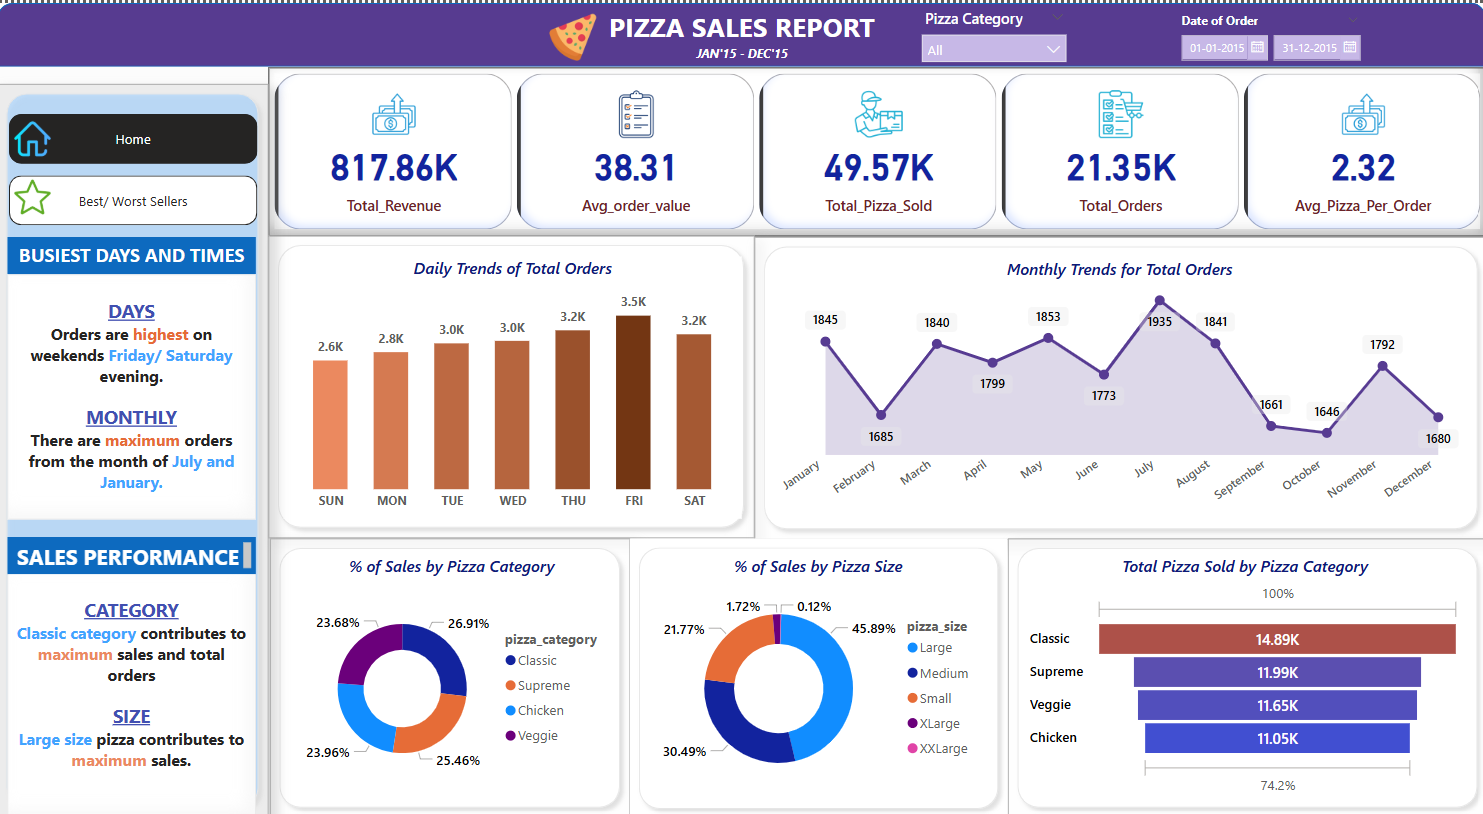

The page's visual inventory and layout, read from the dashboard file:
{"tool":"powerbi","page":{"name":"Home","canvas":[1500,820],"ordinal":0},"visuals":[{"type":"cardVisual","fields":{"Data":["pizza_sales.Total_Revenue","pizza_sales.Avg_order_value","pizza_sales.Total_Pizza_Sold","pizza_sales.Total_Orders","pizza_sales.Avg_Pizza_Per_Order"]},"box":[273.2,64.6,1227.5,169.8],"z":0},{"type":"shape","box":[0,0,1500.4,64.1],"z":1000},{"type":"textbox","box":[0,0,1500,65],"z":2000},{"type":"image","box":[550.2,4.7,59.4,59.4],"z":3000},{"type":"shape","box":[273.2,234.4,489.1,304.6],"z":4000},{"type":"columnChart","title":"Daily Trends of Total Orders","fields":{"Category":["pizza_sales.Order Day"],"Y":["pizza_sales.Total_Orders"]},"box":[287.9,254.7,461.4,263.9],"z":5000},{"type":"shape","box":[762.3,236.3,738.3,304.6],"z":6000},{"type":"areaChart","title":"Monthly Trends for Total Orders","fields":{"Category":["pizza_sales.order_date.Variation.Date Hierarchy.Month"],"Y":["pizza_sales.Total_Orders"]},"box":[782.6,256.6,695.9,263.9],"z":7000},{"type":"shape","box":[275.1,539.2,362.6,281.3],"z":8000},{"type":"shape","box":[1017.5,539.2,482.9,281.3],"z":9000},{"type":"shape","box":[637.7,539.2,379.8,281.3],"z":10000},{"type":"donutChart","title":"% of Sales by Pizza Category","fields":{"Category":["pizza_sales.pizza_category"],"Y":["pizza_sales.Total_Revenue"]},"box":[298.5,556.4,317.3,246.9],"z":11000},{"type":"donutChart","title":"% of Sales by Pizza Size","fields":{"Category":["pizza_sales.pizza_size"],"Y":["pizza_sales.Total_Revenue"]},"box":[651.7,556.4,348.5,246.9],"z":12000},{"type":"funnel","title":"Total Pizza Sold by Pizza Category","fields":{"Category":["pizza_sales.pizza_category"],"Y":["pizza_sales.Total_Pizza_Sold"]},"box":[1034.7,556.4,443.9,246.9],"z":13000},{"type":"shape","box":[0,81.3,273.5,739.3],"z":14000},{"type":"textbox","box":[10.9,236,250.1,37.5],"z":15000},{"type":"textbox","box":[10.9,273.5,250.1,246.9],"z":16000},{"type":"textbox","box":[10.9,573.6,250.1,246.9],"z":17000},{"type":"textbox","box":[10.9,537.6,250.1,37.5],"z":18000},{"type":"slicer","fields":{"Values":["pizza_sales.pizza_category"]},"box":[921.7,0,165,71.7],"z":19000},{"type":"slicer","fields":{"Values":["pizza_sales.order_date"]},"box":[1180,5,203.3,66.7],"z":20000},{"type":"pageNavigator","box":[11.7,111.7,250,50],"z":20001},{"type":"pageNavigator","box":[11.7,173.3,250,50],"z":20002},{"type":"image","box":[11.7,111.7,46.7,50],"z":20003},{"type":"image","box":[11.7,168.3,46.7,55],"z":20004}]}

Visuals, with their boxes in screenshot pixels (x1, y1, x2, y2), scaled from the page's 1500x820 canvas onto the 1483x814 screenshot:
cardVisual - pizza_sales.Total_Revenue x pizza_sales.Avg_order_value: x1=270 y1=64 x2=1482 y2=233
shape: x1=0 y1=0 x2=1482 y2=64
textbox: x1=0 y1=0 x2=1482 y2=65
image: x1=544 y1=5 x2=603 y2=64
shape: x1=270 y1=233 x2=754 y2=535
"Daily Trends of Total Orders" columnChart: x1=285 y1=253 x2=741 y2=515
shape: x1=754 y1=235 x2=1482 y2=537
"Monthly Trends for Total Orders" areaChart: x1=774 y1=255 x2=1462 y2=517
shape: x1=272 y1=535 x2=630 y2=813
shape: x1=1006 y1=535 x2=1482 y2=813
shape: x1=630 y1=535 x2=1006 y2=813
"% of Sales by Pizza Category" donutChart: x1=295 y1=552 x2=609 y2=797
"% of Sales by Pizza Size" donutChart: x1=644 y1=552 x2=989 y2=797
"Total Pizza Sold by Pizza Category" funnel: x1=1023 y1=552 x2=1462 y2=797
shape: x1=0 y1=81 x2=270 y2=813
textbox: x1=11 y1=234 x2=258 y2=271
textbox: x1=11 y1=271 x2=258 y2=517
textbox: x1=11 y1=569 x2=258 y2=813
textbox: x1=11 y1=534 x2=258 y2=571
slicer - pizza_sales.pizza_category: x1=911 y1=0 x2=1074 y2=71
slicer - pizza_sales.order_date: x1=1167 y1=5 x2=1368 y2=71
pageNavigator: x1=12 y1=111 x2=259 y2=161
pageNavigator: x1=12 y1=172 x2=259 y2=222
image: x1=12 y1=111 x2=58 y2=161
image: x1=12 y1=167 x2=58 y2=222
